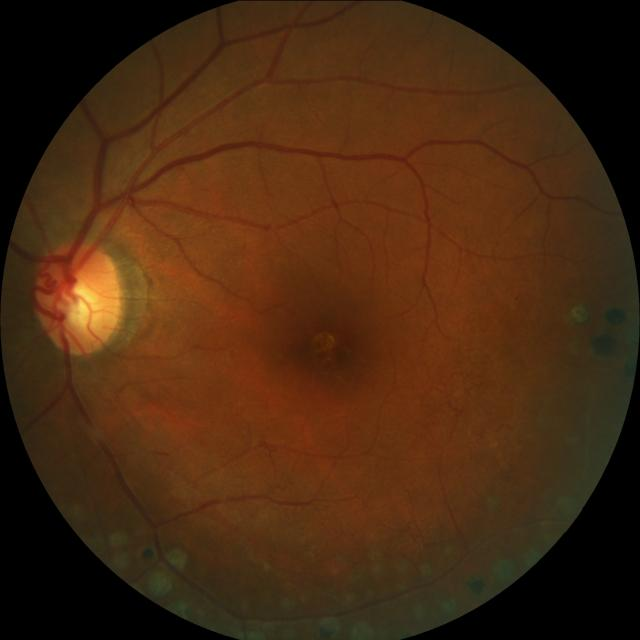OC: (50, 273, 103, 331)
OD: (32, 239, 123, 354)
